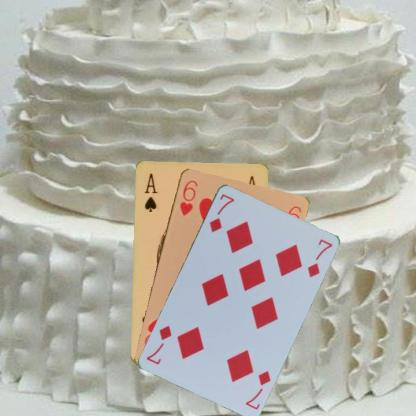6h: (177, 177, 199, 217)
7d: (206, 190, 236, 233), (243, 367, 272, 411)
As: (142, 170, 158, 213)
